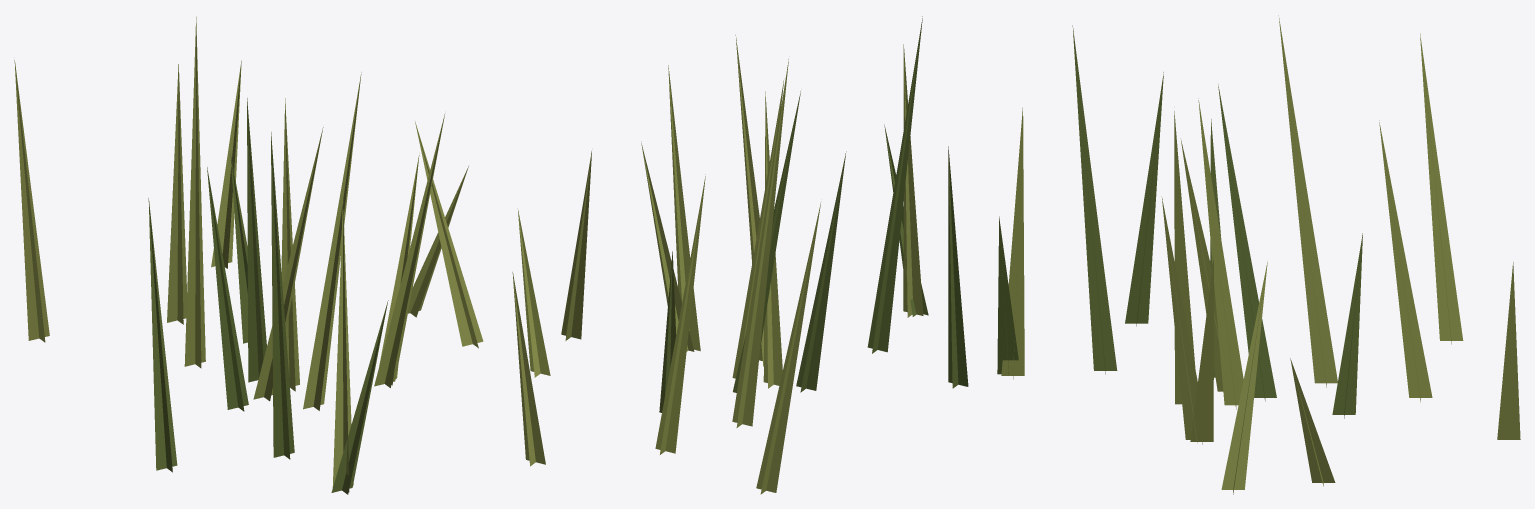
The model's file is vegetation-grass-clump.glb.
3 renders of one model, left to right at view 1: azimuth 30°, elevation 25°; view 2: azimuth 150°, elevation 25°; view 3: azimuth 270°, elevation 25°, orthographic. The views are drawn at different scales.
Visible parts, largest first — view 1: vegetation-grass-clump; view 2: vegetation-grass-clump; view 3: vegetation-grass-clump.
Boxes of the visible parts, bbox=[...] form: vegetation-grass-clump: bbox=[14, 16, 483, 494]; vegetation-grass-clump: bbox=[512, 16, 968, 494]; vegetation-grass-clump: bbox=[997, 15, 1520, 494].
Bounding box in the file's own units: 0.6698 × 0.609 × 0.8064.
